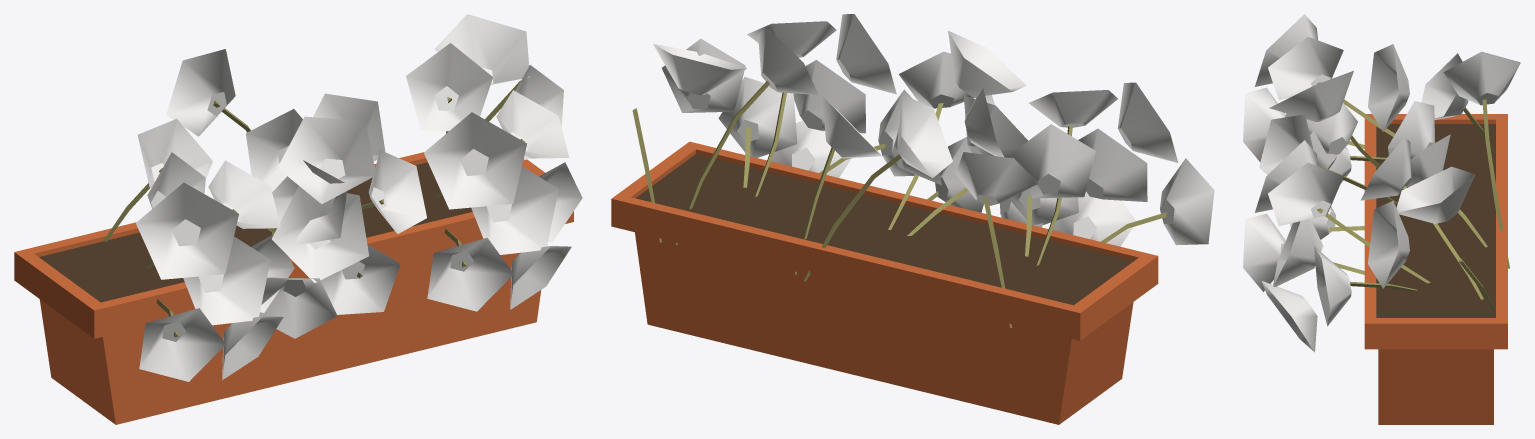
Rendered from SM_flowerbox_small_01.fbx.
3 views of the same model, side by side, from view 1: azimuth 30°, elevation 25°; view 2: azimuth 150°, elevation 25°; view 3: azimuth 270°, elevation 25° (orthographic). The views are drawn at different scales.
Visible parts, largest first — view 1: Box120; view 2: Box120; view 3: Box120.
Part boxes in pixels (bbox=[...]): Box120: bbox=[14, 14, 582, 424]; Box120: bbox=[611, 14, 1214, 424]; Box120: bbox=[1243, 14, 1520, 424].
Size of the model in its own units: 28.43 by 15.51 by 16.17.
